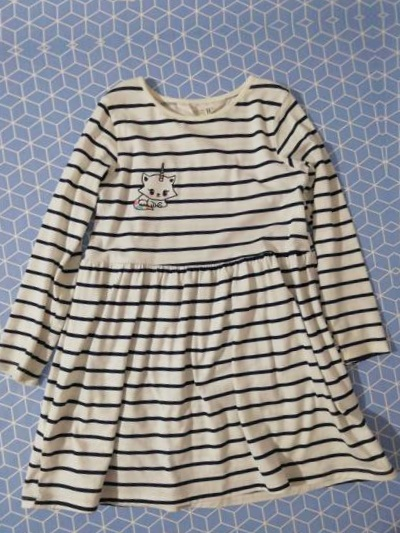Dress: (0, 63, 400, 532), (382, 23, 400, 492), (0, 0, 361, 8)
